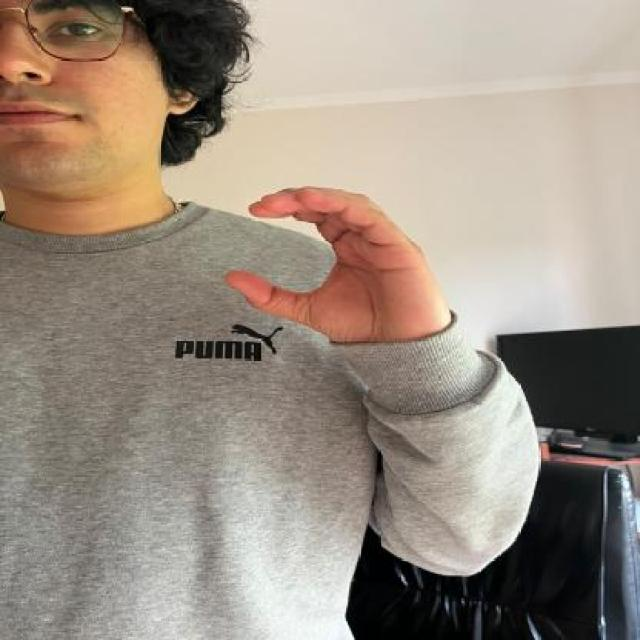C: (217, 182, 441, 346)
